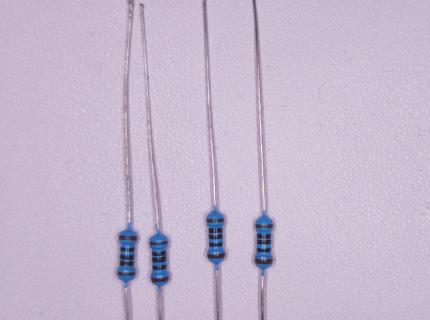Black band: (120, 246, 135, 252), (257, 239, 271, 245), (257, 233, 271, 239), (153, 256, 167, 262), (120, 254, 134, 260), (153, 264, 166, 270), (257, 247, 271, 252), (209, 234, 223, 239), (209, 242, 223, 247), (152, 251, 166, 256), (120, 261, 134, 266), (209, 228, 222, 233)
Brown band: (206, 217, 225, 223), (119, 235, 137, 241), (151, 276, 169, 282), (207, 253, 225, 259), (255, 258, 272, 264), (149, 240, 168, 245), (255, 223, 273, 228), (117, 272, 136, 276)
